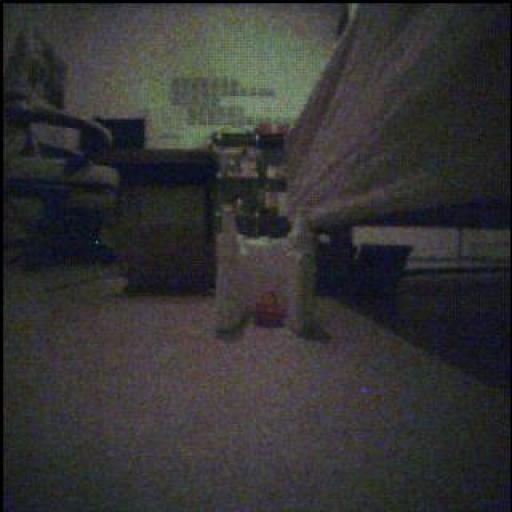basket: (255, 294, 286, 329)
